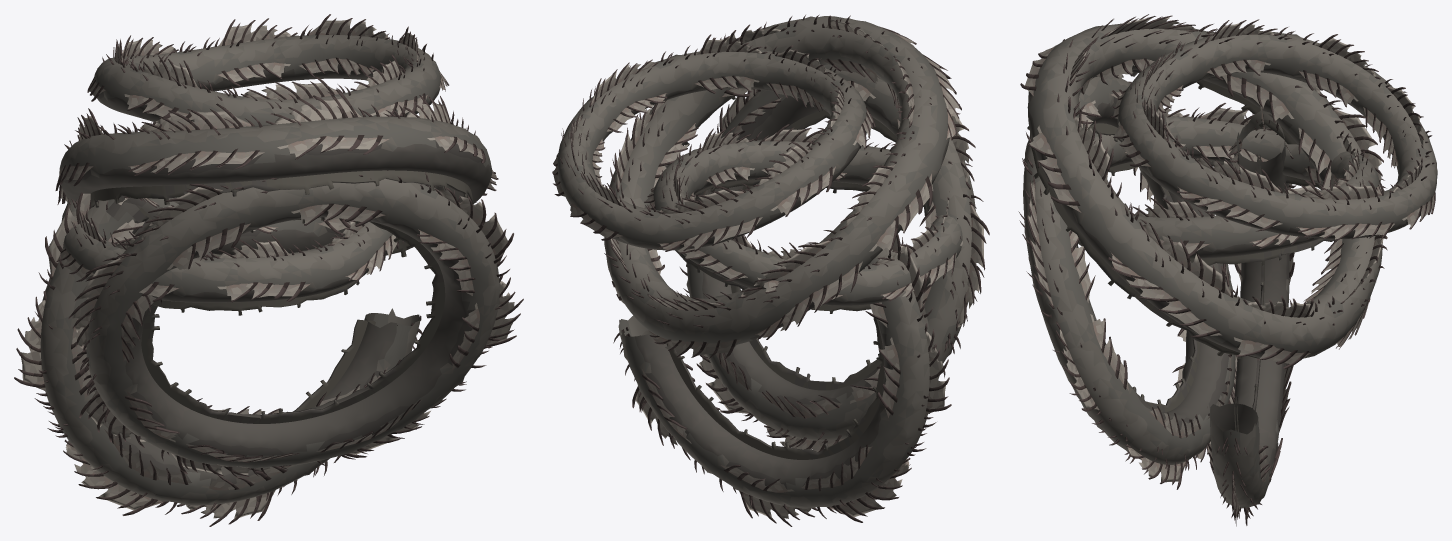
File: R_Act_Fix_1.fbx
3 renders of one model, left to right at view 1: azimuth 30°, elevation 25°; view 2: azimuth 150°, elevation 25°; view 3: azimuth 270°, elevation 25°, orthographic. The views are drawn at different scales.
Parts seen in each view (by area): view 1: LeviathanRing2, LevRing1, LeviathanRing, levring3, levring2; view 2: LevRing1, LeviathanRing, levring3, LeviathanRing2, levring2; view 3: LevRing1, levring3, LeviathanRing2, levring2, LeviathanRing.
Part boxes in pixels (left/top/right/bottom): LeviathanRing2: left=68, top=170, right=523, bottom=477; LevRing1: left=55, top=89, right=498, bottom=260; LeviathanRing: left=14, top=192, right=422, bottom=526; levring3: left=87, top=14, right=449, bottom=125; levring2: left=56, top=122, right=403, bottom=315; LevRing1: left=604, top=14, right=961, bottom=360; LeviathanRing: left=613, top=234, right=951, bottom=526; levring3: left=552, top=34, right=875, bottom=251; LeviathanRing2: left=680, top=64, right=989, bottom=452; levring2: left=644, top=124, right=962, bottom=313; LevRing1: left=1020, top=14, right=1387, bottom=368; levring3: left=1109, top=19, right=1437, bottom=241; LeviathanRing2: left=1018, top=74, right=1236, bottom=489; levring2: left=1077, top=103, right=1384, bottom=265; LeviathanRing: left=1207, top=106, right=1296, bottom=526.
Size of the model in its own units: 10824 by 12286 by 9898.
